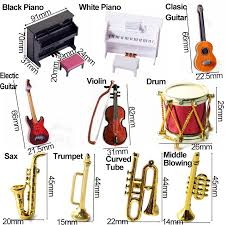Piano: (1, 8, 93, 102)
Saxophone: (1, 146, 56, 225)
Violin: (83, 73, 148, 149)
